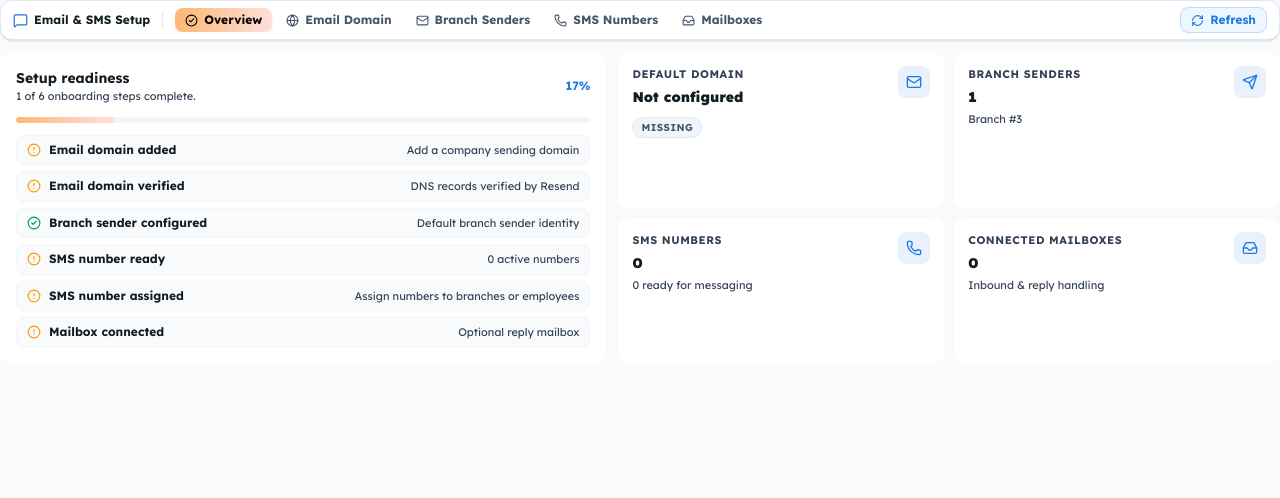
rejects an invalid recipient without sending
Click the button "Branch Senders".
click(473, 20)  # box left=406, top=8, right=540, bottom=32
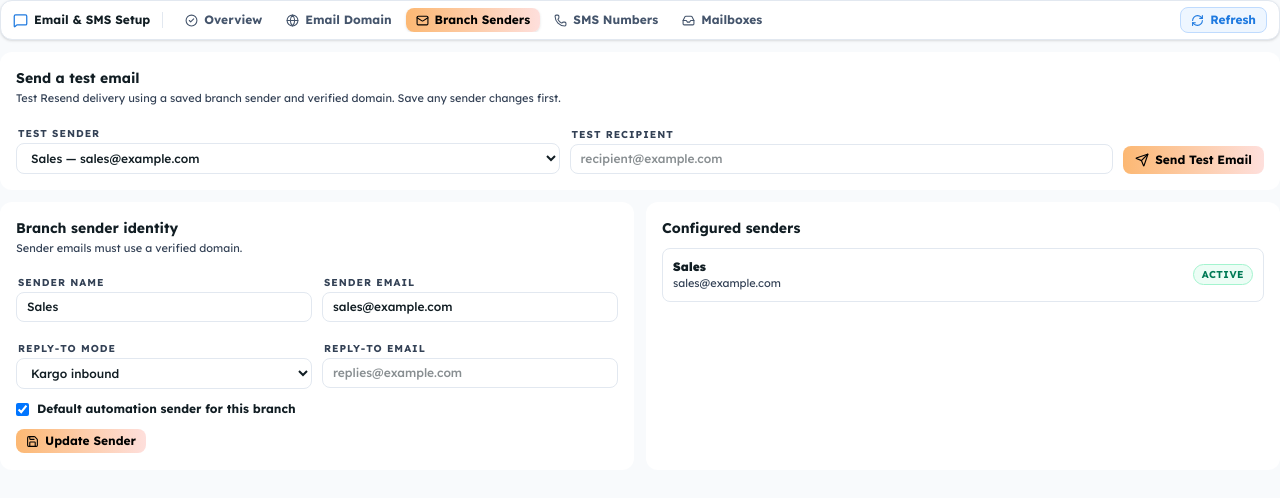
Click the button "Send Test Email".
click(1194, 160)  # box left=1123, top=146, right=1264, bottom=174
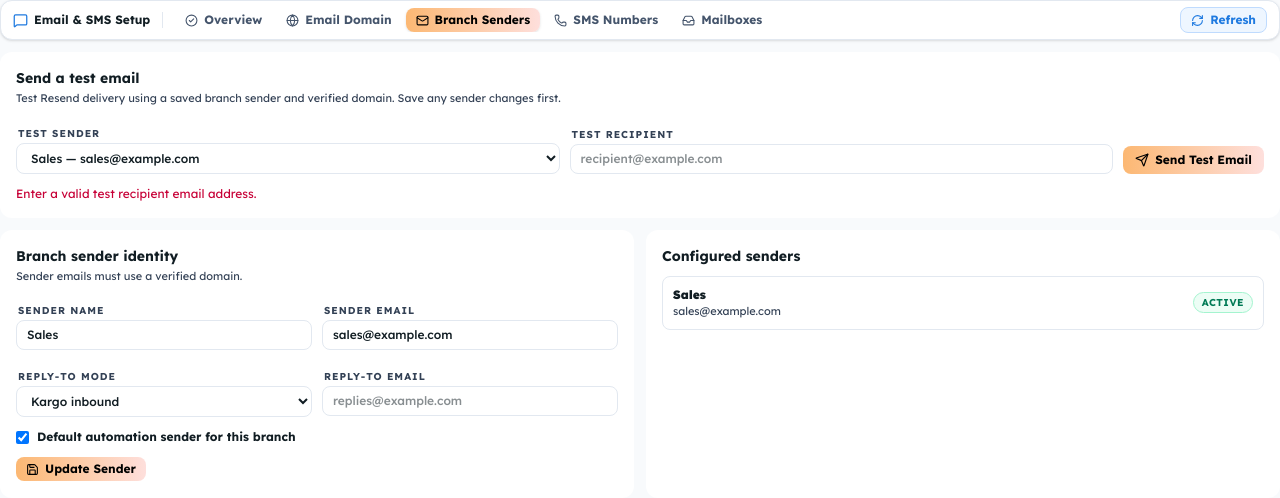
Now the message shows "Enter a valid test recipient", box left=16, top=186, right=257, bottom=200
